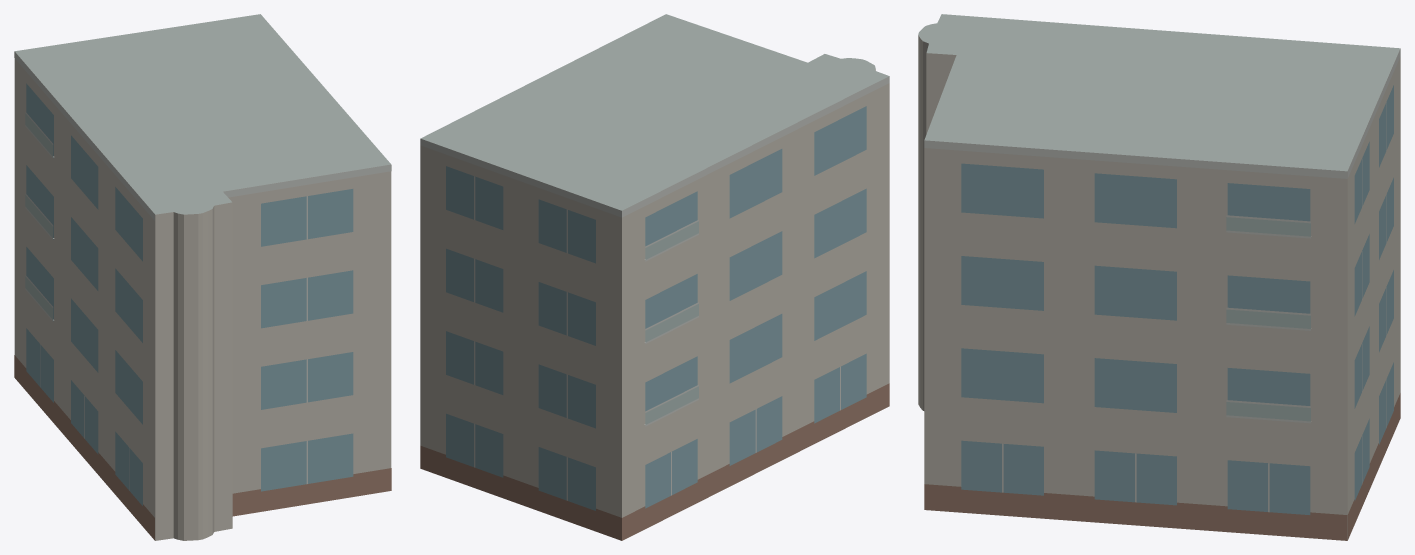
File: survey-upis-32701776.glb
The picture shows the model from 3 angles, left to right: view 1: azimuth 30°, elevation 25°; view 2: azimuth 150°, elevation 25°; view 3: azimuth 270°, elevation 25°; orthographic projection. The views are drawn at different scales.
Visible parts, largest first — view 1: survey-upis-32701776.tmp; view 2: survey-upis-32701776.tmp; view 3: survey-upis-32701776.tmp.
Part boxes in pixels (x1,y1,x2,y2): survey-upis-32701776.tmp: (14, 14, 391, 540); survey-upis-32701776.tmp: (420, 14, 889, 540); survey-upis-32701776.tmp: (918, 14, 1400, 540).
Bounding box in the file's own units: 10.78 × 11.8 × 13.97.
